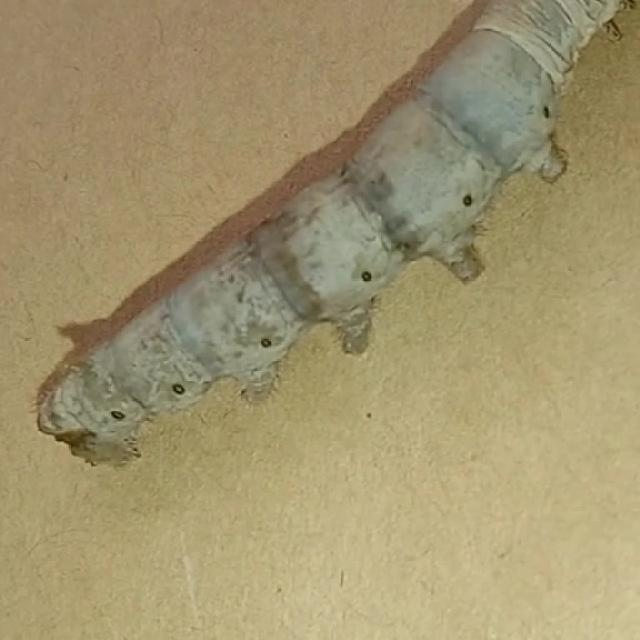Grasserie: (24, 5, 604, 473)
